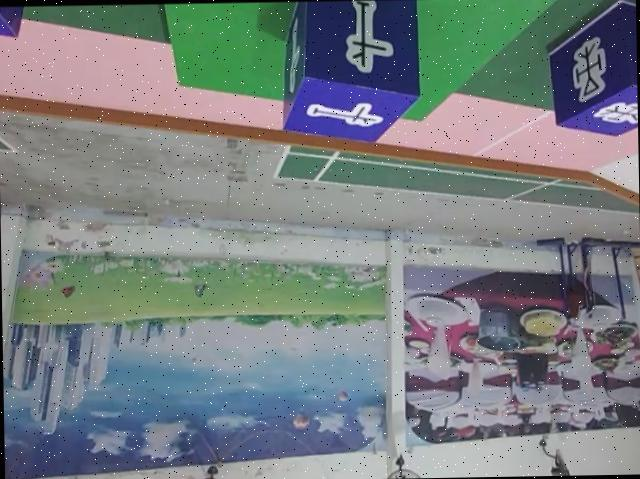R2 Real Blue: (281, 0, 420, 144), (545, 0, 638, 134)
